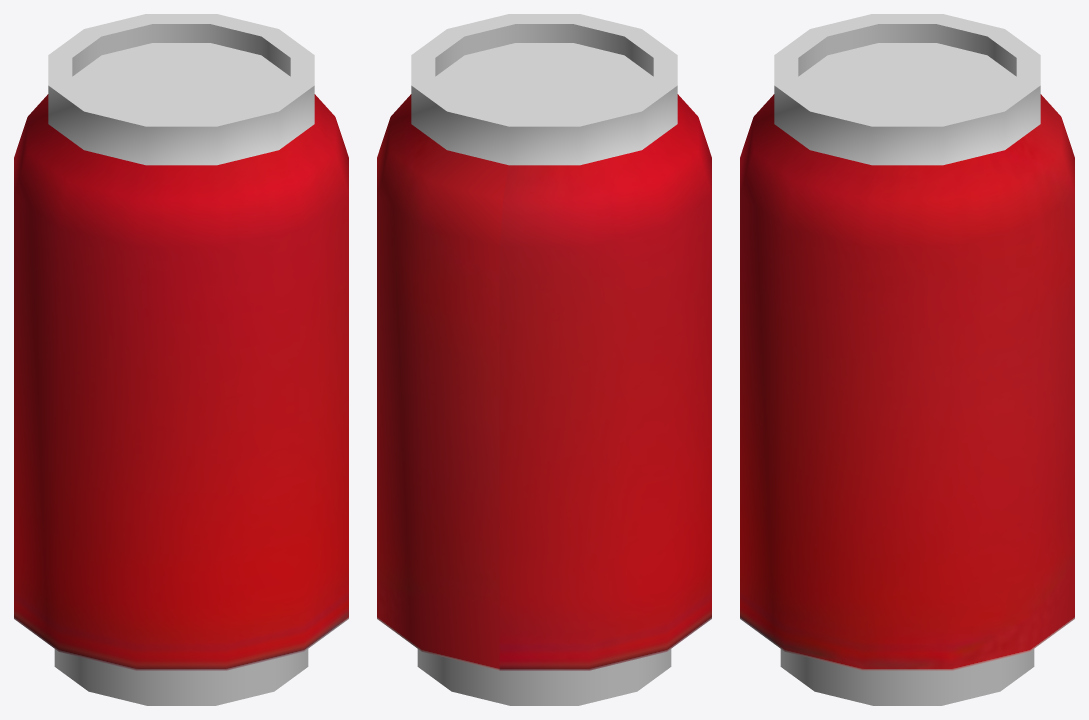
The model's file is SM_drink_soda_02.fbx.
3 views of the same model, side by side, from view 1: azimuth 30°, elevation 25°; view 2: azimuth 150°, elevation 25°; view 3: azimuth 270°, elevation 25° (orthographic).
Parts seen in each view (by area): view 1: Cylinder004; view 2: Cylinder004; view 3: Cylinder004.
Part boxes in pixels (x1,y1,x2,y2): Cylinder004: (14,14,348,705); Cylinder004: (377,14,711,705); Cylinder004: (740,14,1074,705).
Size of the model in its own units: 8.5 by 16.3 by 8.5.
